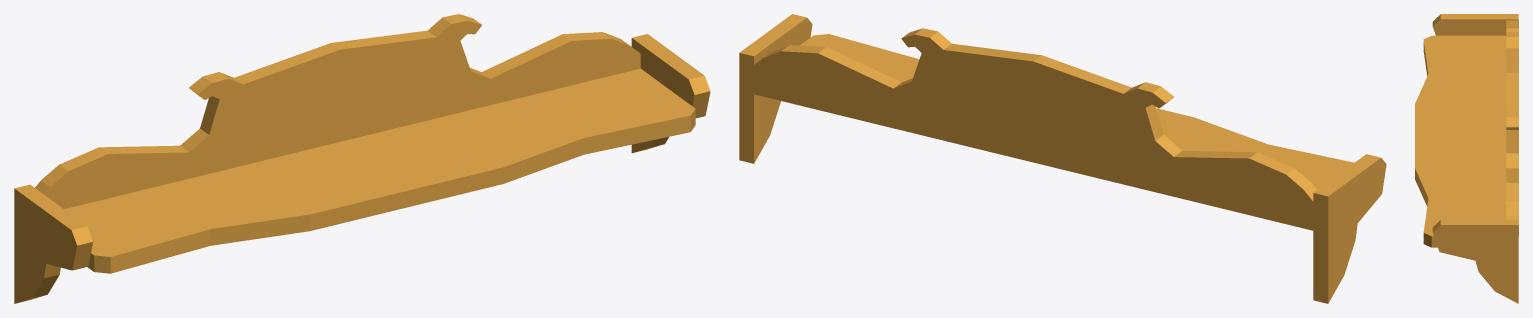
File: SM_Shelf_Wall_Victorian_B.fbx
3 renders of one model, left to right at view 1: azimuth 30°, elevation 25°; view 2: azimuth 150°, elevation 25°; view 3: azimuth 270°, elevation 25°, orthographic. The views are drawn at different scales.
Visible parts, largest first — view 1: shelf-wall-victorian-b; view 2: shelf-wall-victorian-b; view 3: shelf-wall-victorian-b.
Boxes of the visible parts, box(x1,y1,x2,y2) form: shelf-wall-victorian-b: box(14, 14, 710, 303); shelf-wall-victorian-b: box(739, 14, 1386, 303); shelf-wall-victorian-b: box(1415, 14, 1518, 303).
Size of the model in its own units: 1.5 by 0.4155 by 0.3121.
